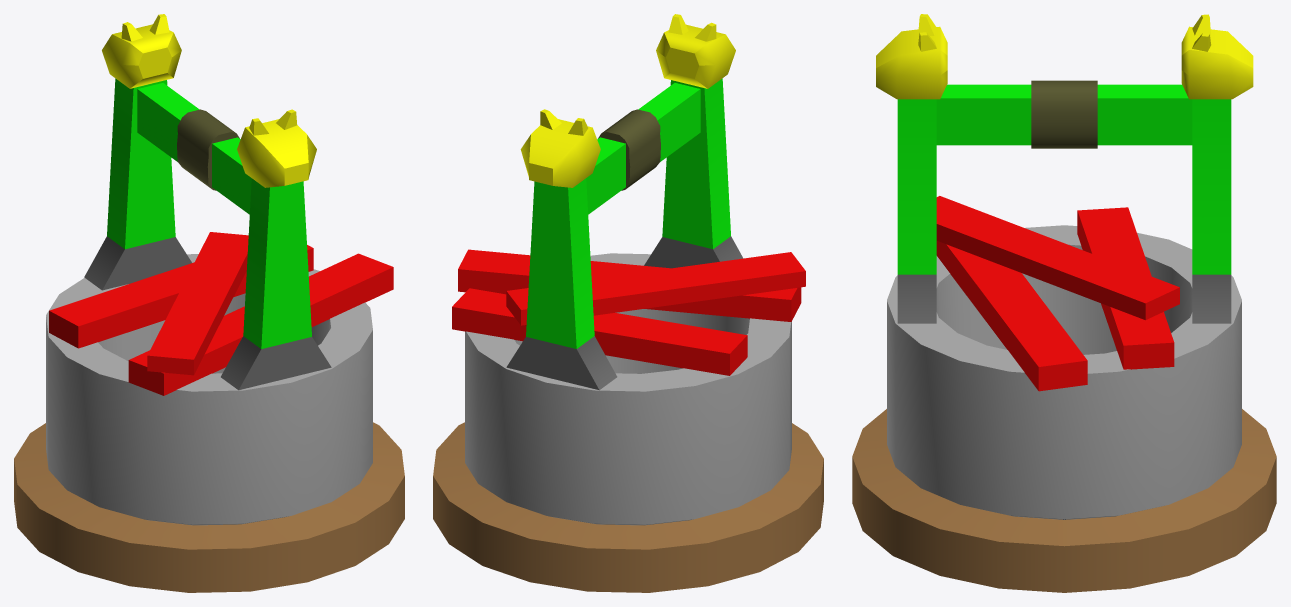
Rendered from Well.fbx.
3 renders of one model, left to right at view 1: azimuth 30°, elevation 25°; view 2: azimuth 150°, elevation 25°; view 3: azimuth 270°, elevation 25°, orthographic. The views are drawn at different scales.
Parts seen in each view (by area): view 1: pCylinder3, pCube13, pCylinder2; view 2: pCylinder3, pCube13, pCylinder2; view 3: pCylinder3, pCube13, pCylinder2.
Boxes of the visible parts, x1,y1,x2,y2 form: pCylinder3: (14, 14, 404, 592); pCube13: (49, 232, 393, 395); pCylinder2: (177, 109, 239, 190); pCylinder3: (433, 14, 823, 592); pCube13: (452, 249, 805, 375); pCylinder2: (598, 109, 660, 190); pCylinder3: (852, 14, 1276, 592); pCube13: (936, 196, 1179, 391); pCylinder2: (1031, 80, 1097, 148).
Bounding box in the file's own units: 1.43 × 1.77 × 1.42.
